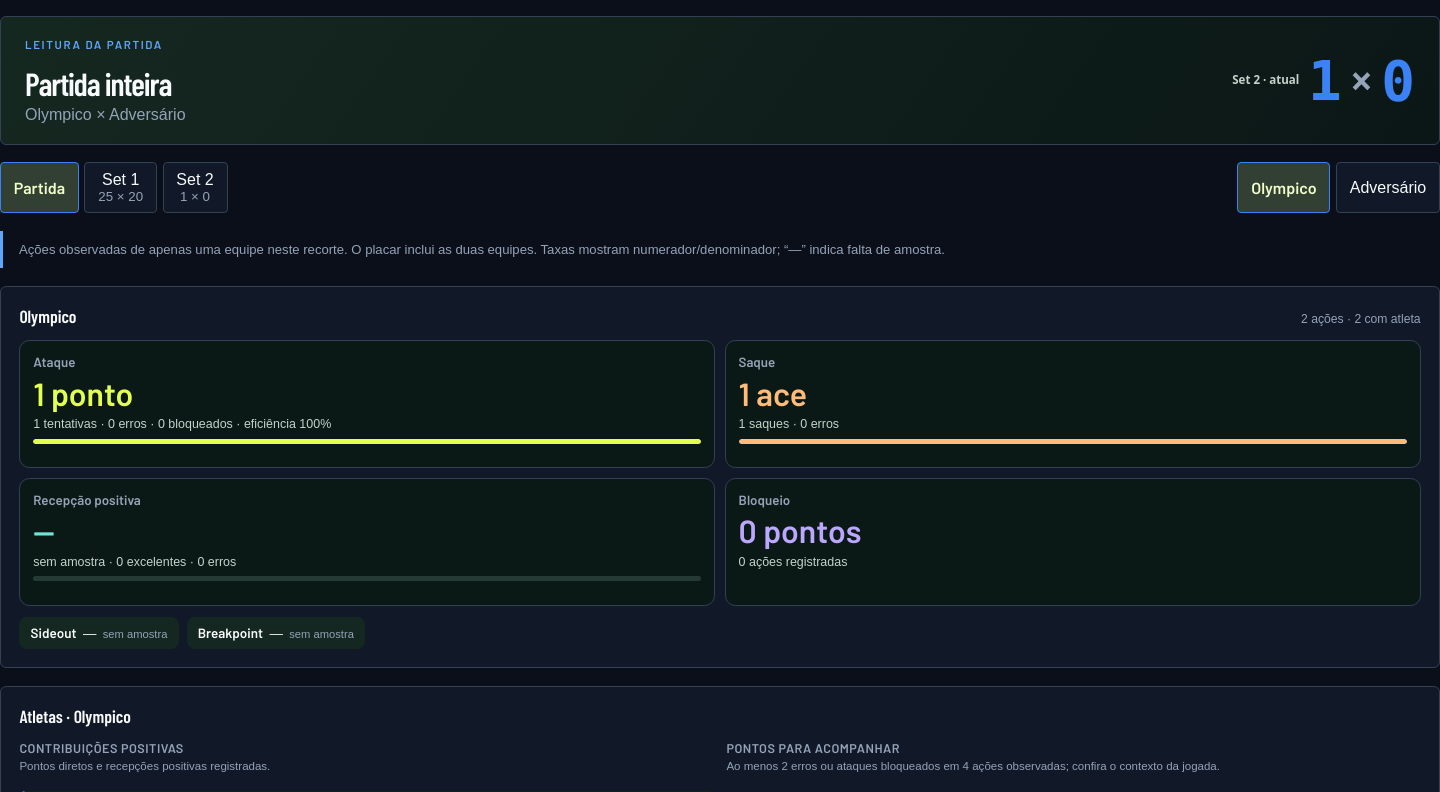
Test case: VolleyballReading › shows recent actions and applies set and team filters to the visible reading
Check: the heading "Contribuições positivas" is shown, box [19,740,184,756]
Click the button "Set 2 1 × 0".
click(195, 188)  # box [162,162,228,213]
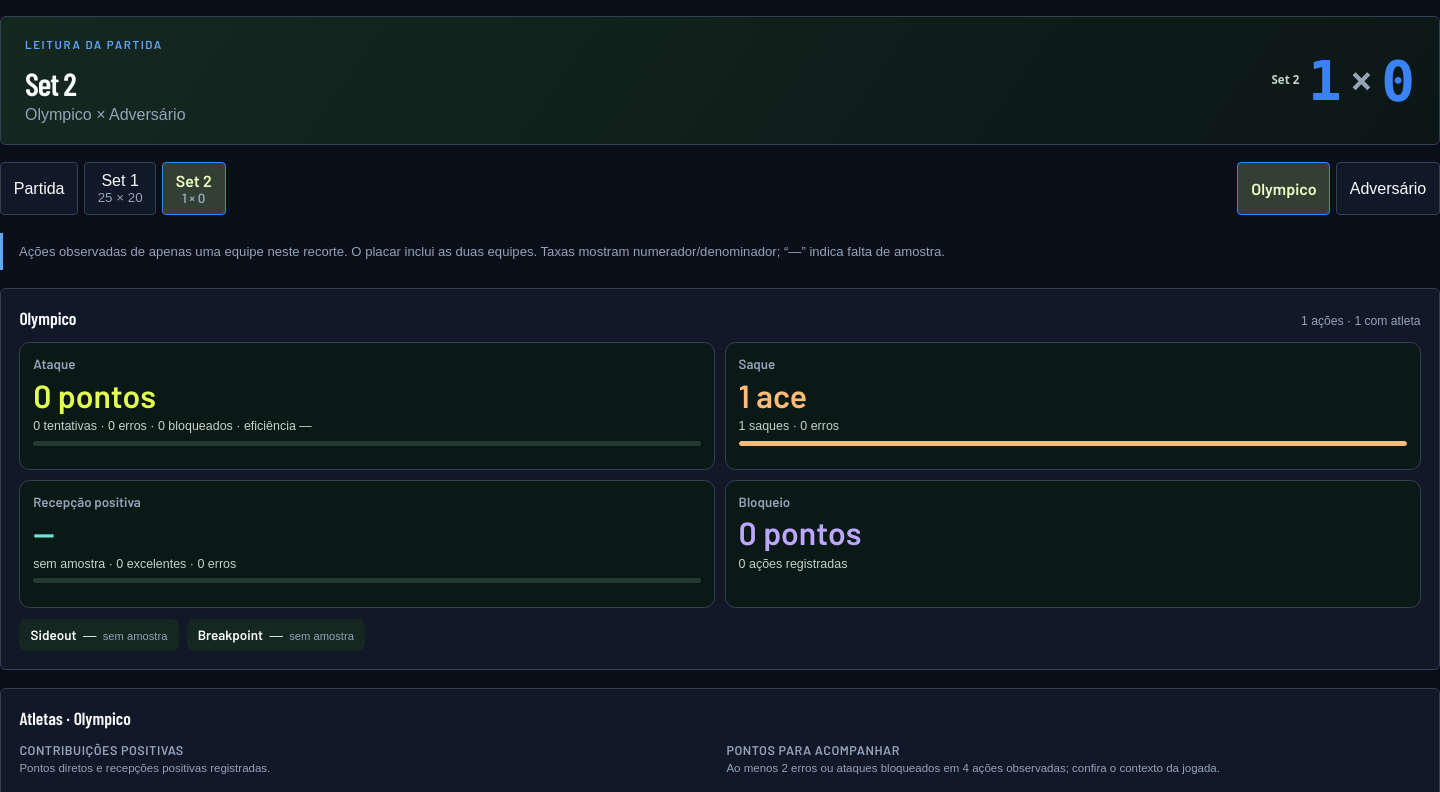
Check: the element named "Estatísticas de Olympico" shows "1 ace", box [739,376,807,414]
Click the button "Adversário".
click(1388, 189)  # box [1336,162,1439,215]
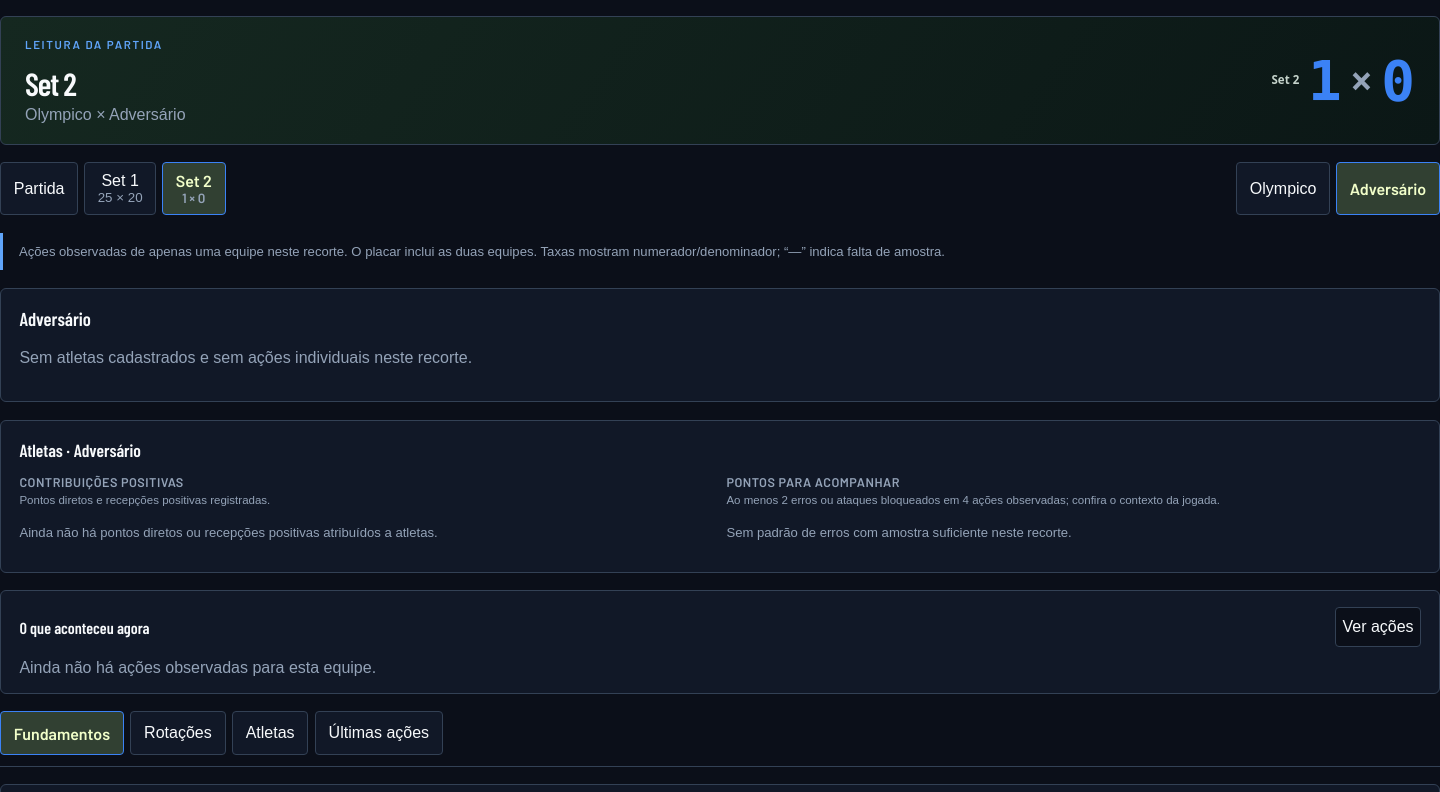
Check: the element named "Estatísticas de Adversário" shows "Sem atletas cadastrados", box [19,349,472,366]
Check: the element named "Ações recentes observadas" shows "Ainda não há ações observadas", box [19,658,376,676]
